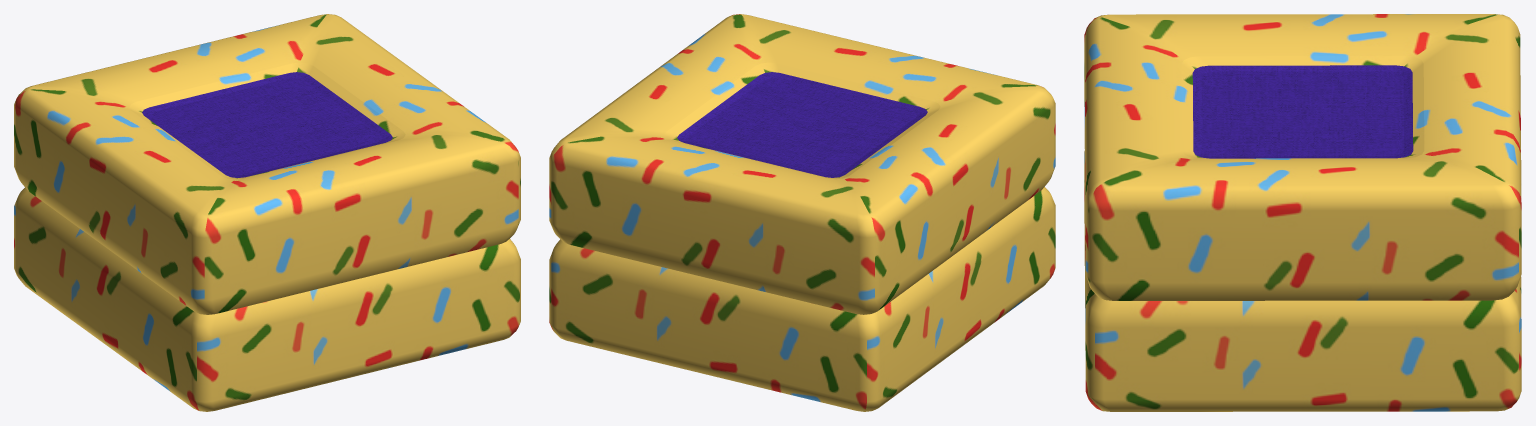
File: PLF0110051.fbx
3 views of the same model, side by side, from view 1: azimuth 30°, elevation 25°; view 2: azimuth 150°, elevation 25°; view 3: azimuth 270°, elevation 25° (orthographic). The views are drawn at different scales.
Parts seen in each view (by area): view 1: smPLF0110051; view 2: smPLF0110051; view 3: smPLF0110051.
Part boxes in pixels (box(x1,y1,x2,y2)): smPLF0110051: box(14, 14, 520, 411); smPLF0110051: box(549, 14, 1055, 411); smPLF0110051: box(1084, 14, 1521, 411).
Size of the model in its own units: 196 by 115 by 196.
Materials: 1 (1 with a texture image).
